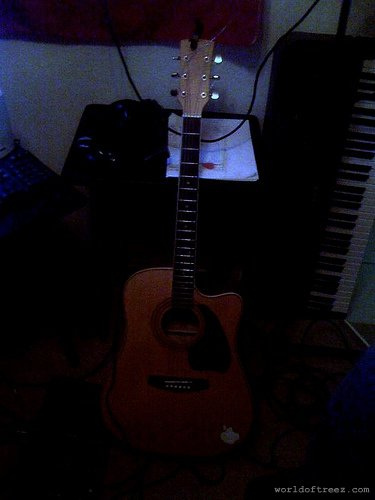guitar: (96, 33, 258, 462)
